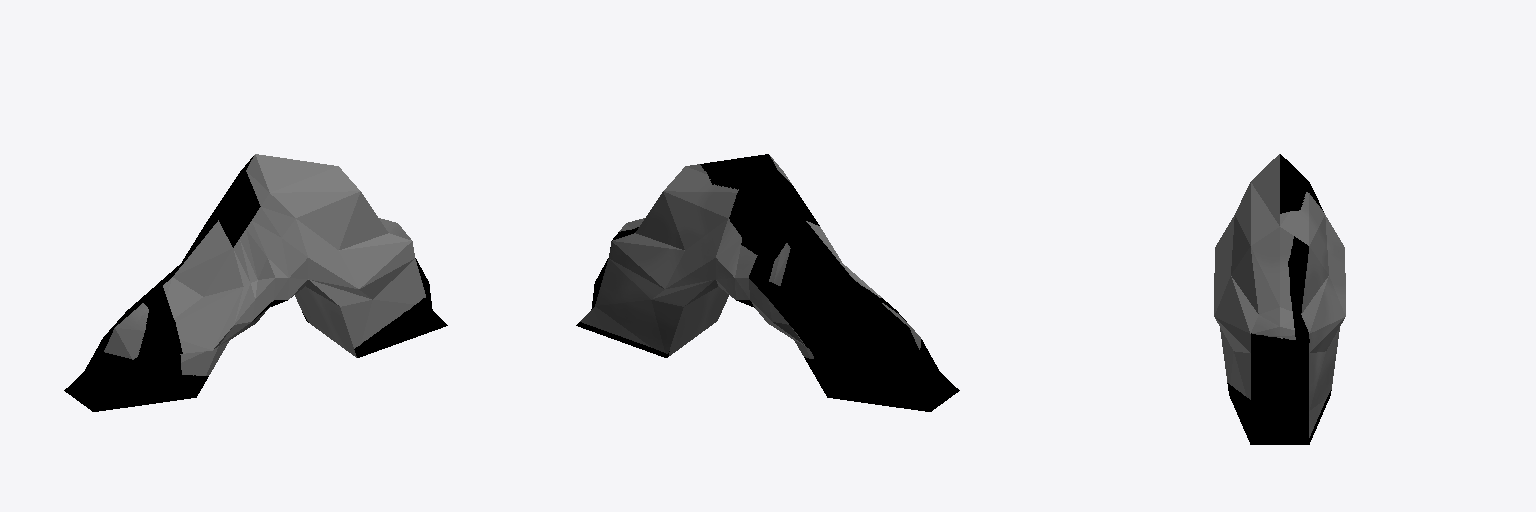
3 views of the same model, side by side, from view 1: azimuth 30°, elevation 25°; view 2: azimuth 150°, elevation 25°; view 3: azimuth 270°, elevation 25° (orthographic).
Visible parts, largest first — view 1: Cube; view 2: Cube; view 3: Cube.
Part boxes in pixels (x1,y1,x2,y2): Cube: (64,154,447,411); Cube: (576,154,959,411); Cube: (1214,154,1345,444).
Bounding box in the file's own units: 13.91 × 7.68 × 4.48.
1 materials, 1 textured.